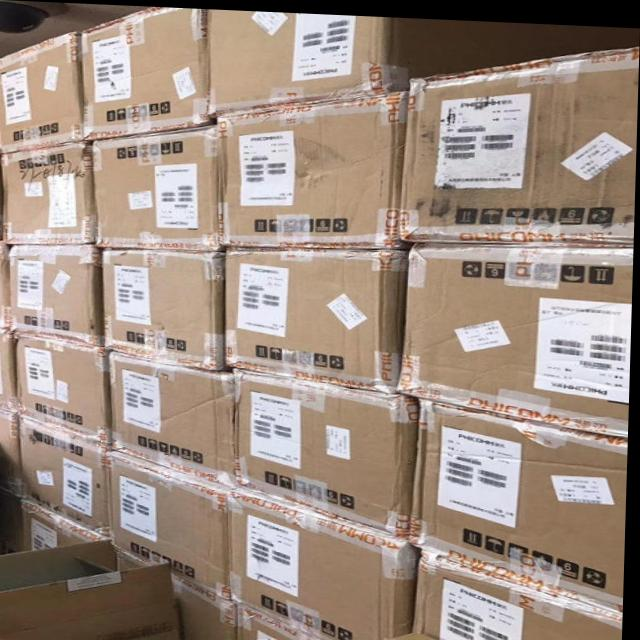box: (402, 41, 634, 240), (395, 240, 631, 432), (423, 395, 628, 600), (216, 88, 409, 244), (235, 370, 412, 536), (238, 485, 416, 640), (226, 244, 403, 390), (207, 9, 445, 115), (418, 545, 627, 640), (112, 350, 246, 492), (75, 7, 214, 140), (113, 449, 231, 600), (94, 127, 218, 250), (102, 248, 226, 367), (15, 334, 115, 446), (0, 31, 89, 154), (25, 417, 113, 534), (0, 140, 94, 245), (9, 244, 100, 344), (24, 501, 109, 551), (238, 604, 336, 640), (0, 411, 23, 486), (0, 244, 18, 333), (0, 330, 20, 410), (375, 626, 454, 640)
